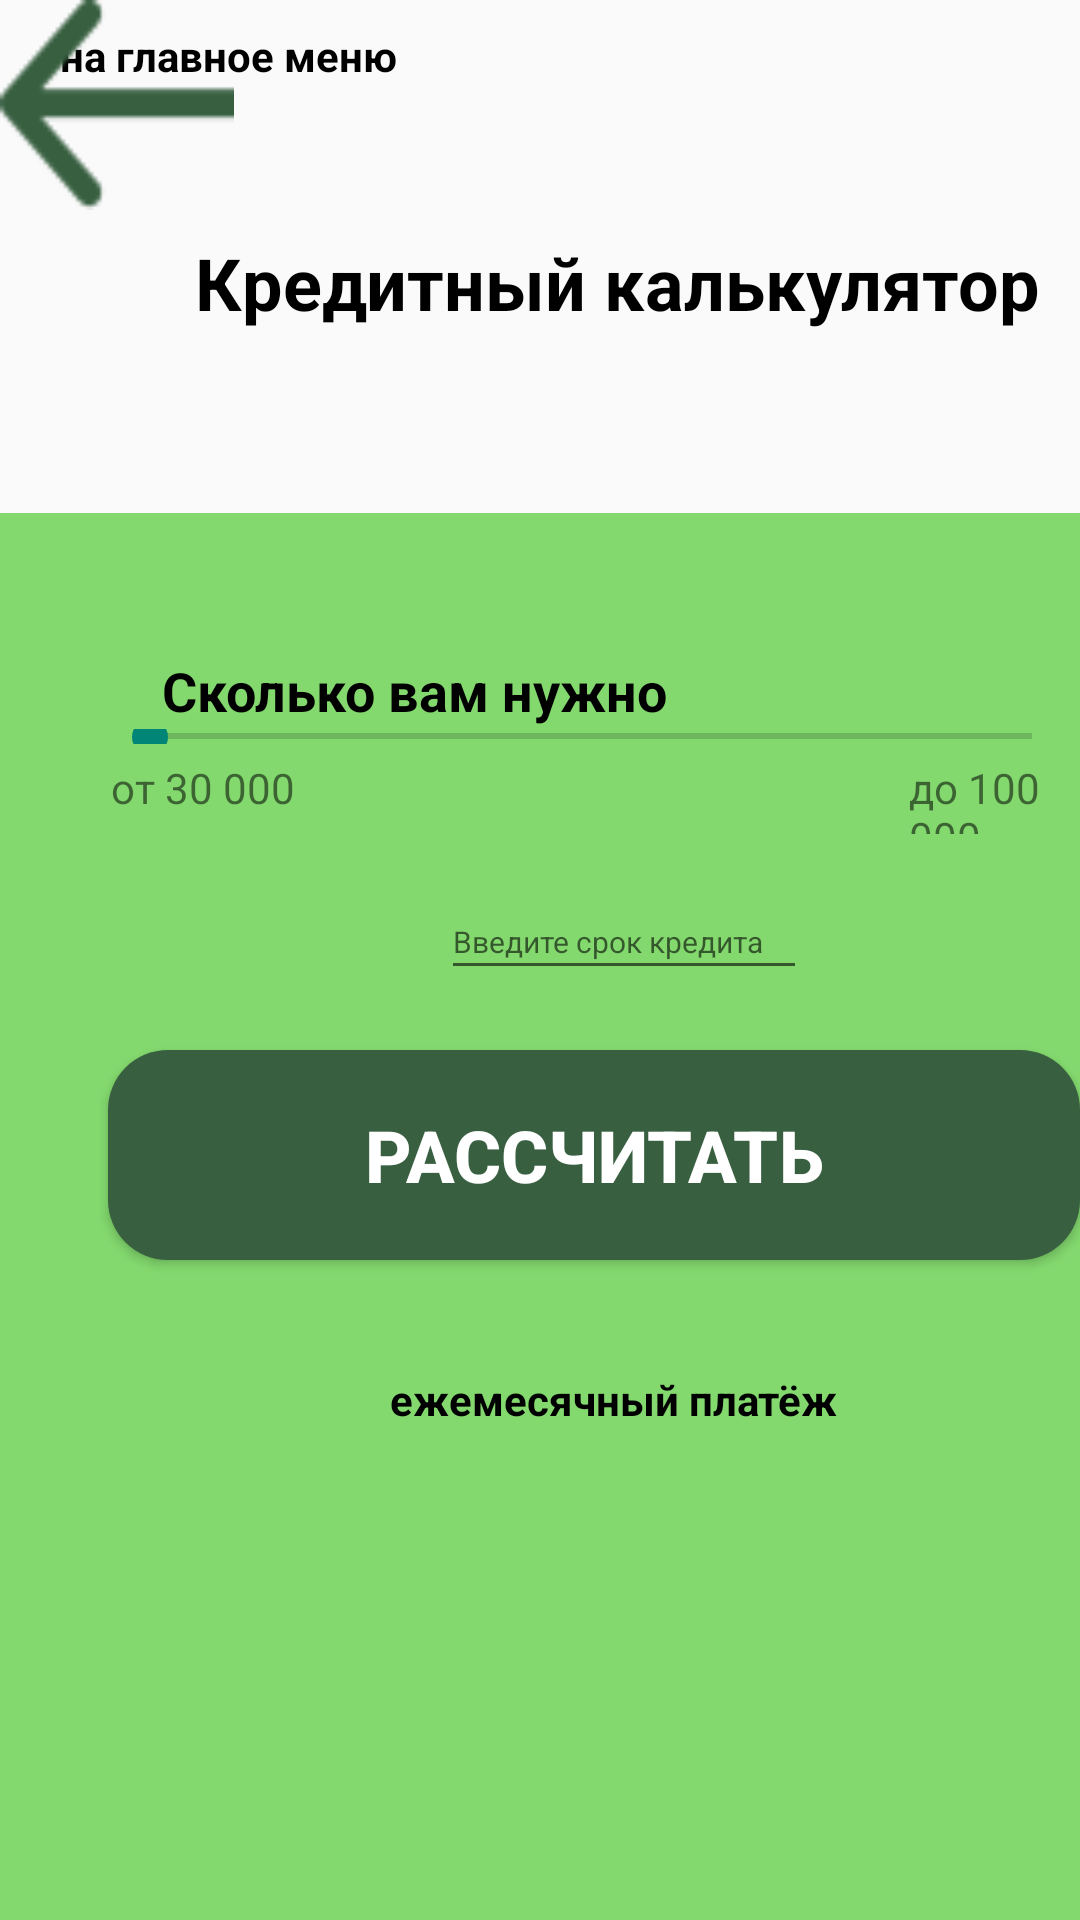

Named icons in this screenshot (1080x1920) and their centers, [x,y]:
back: [117,104]
